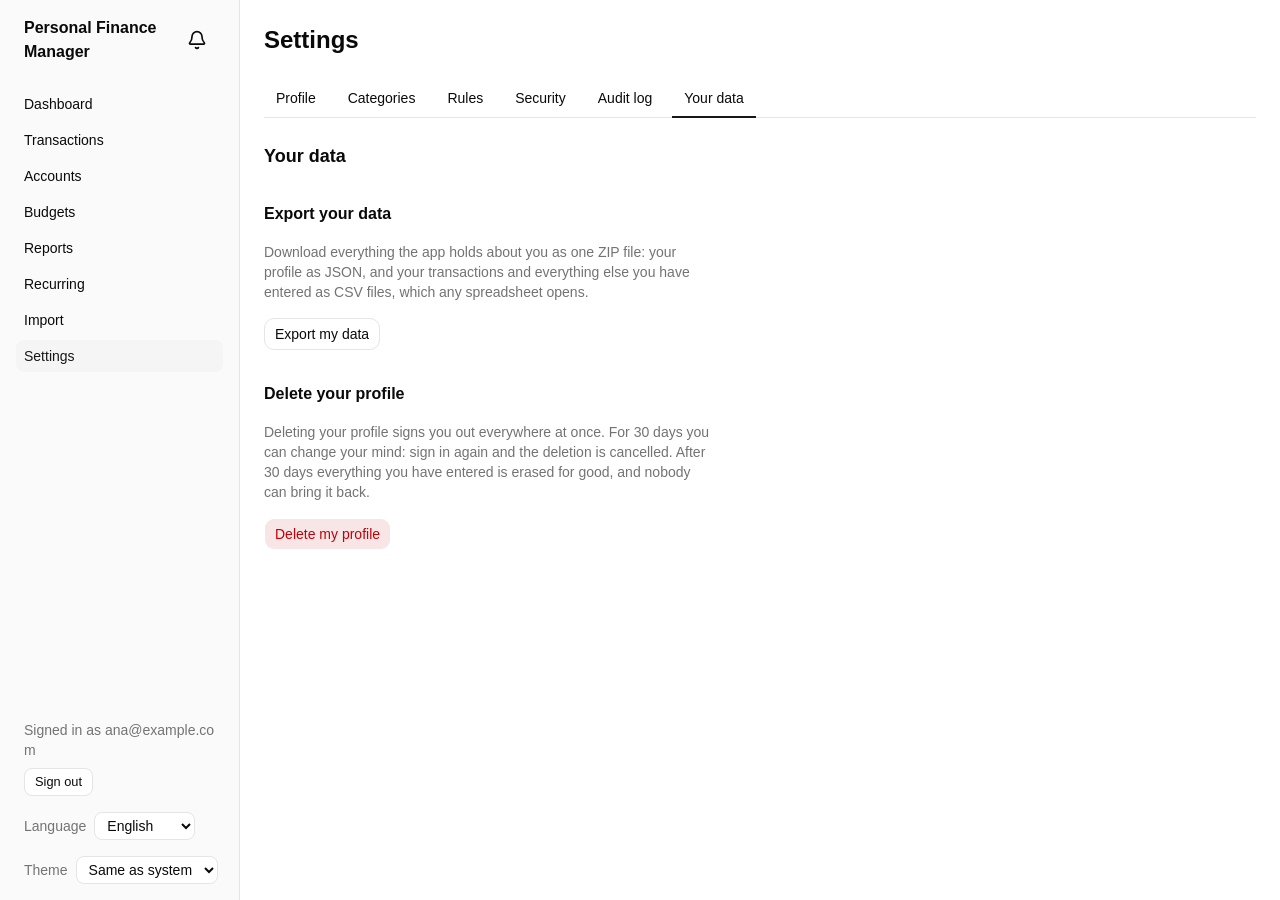
Test: deleting your profile › says when the password is wrong, and deletes nothing
Click the button "Delete my profile": click(328, 534) top-left (264, 518), bottom-right (391, 550)
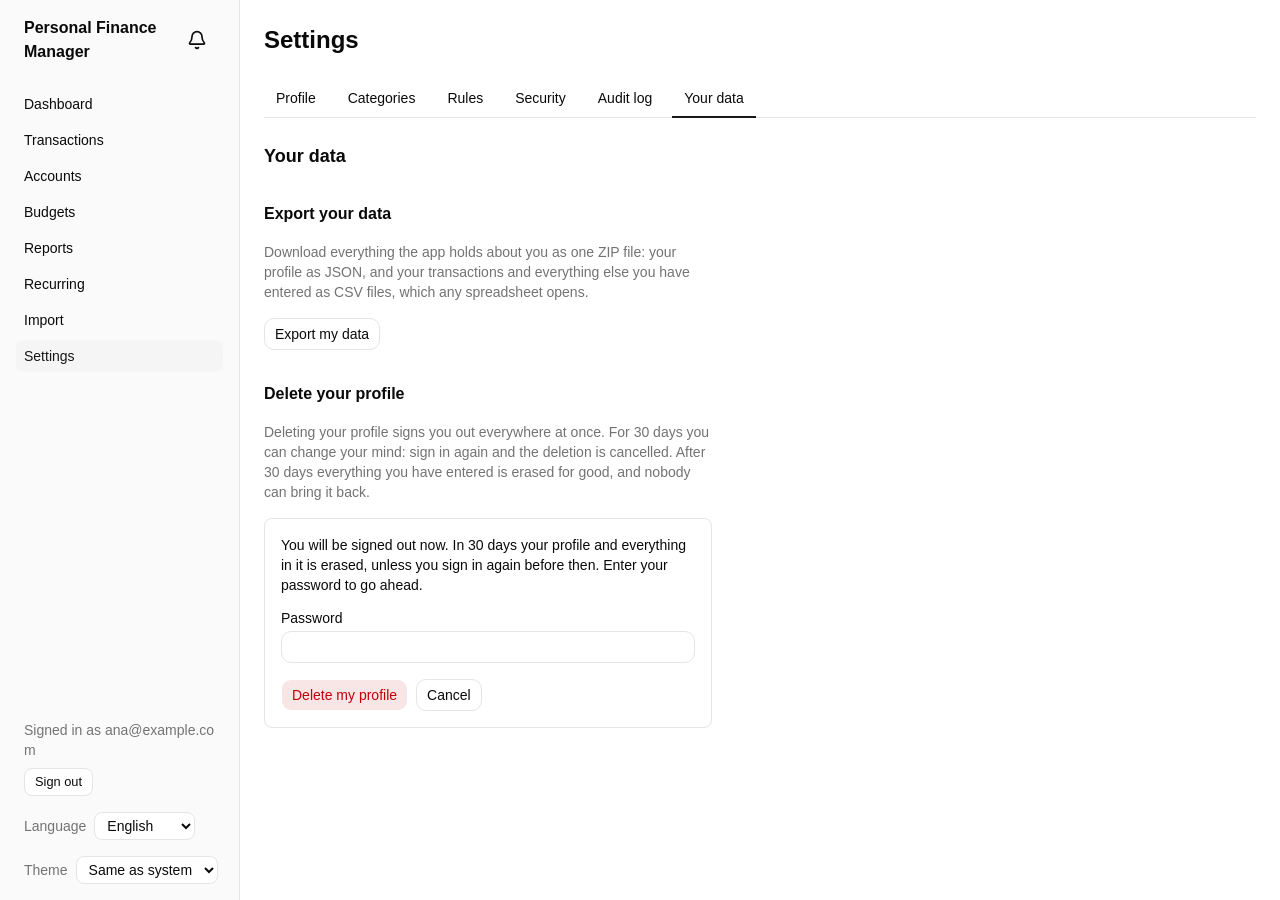
In the password field labelled "Password": (488, 647) top-left (281, 631), bottom-right (695, 663), type "not my password at all"
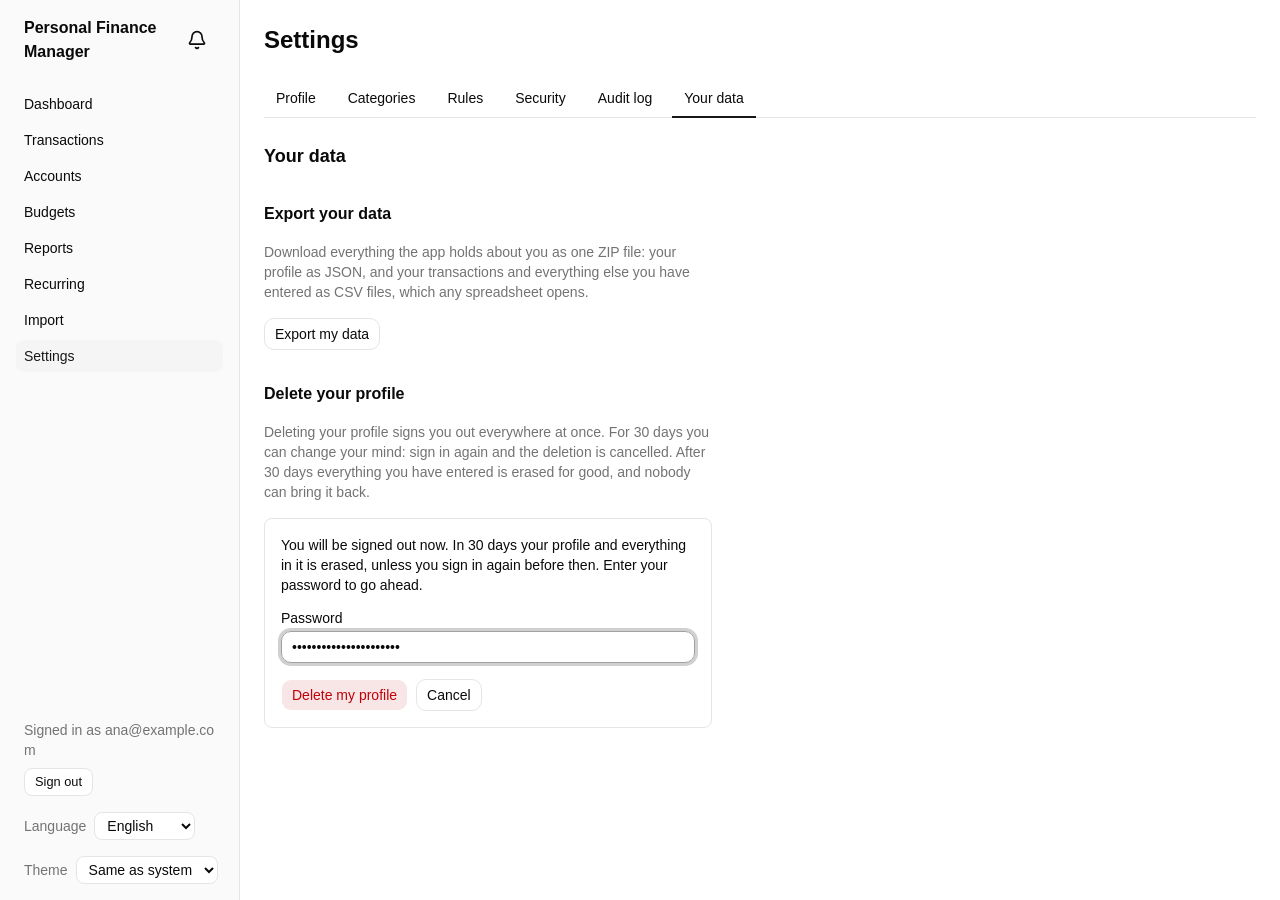
Click the button "Delete my profile": click(344, 695) top-left (281, 679), bottom-right (408, 711)
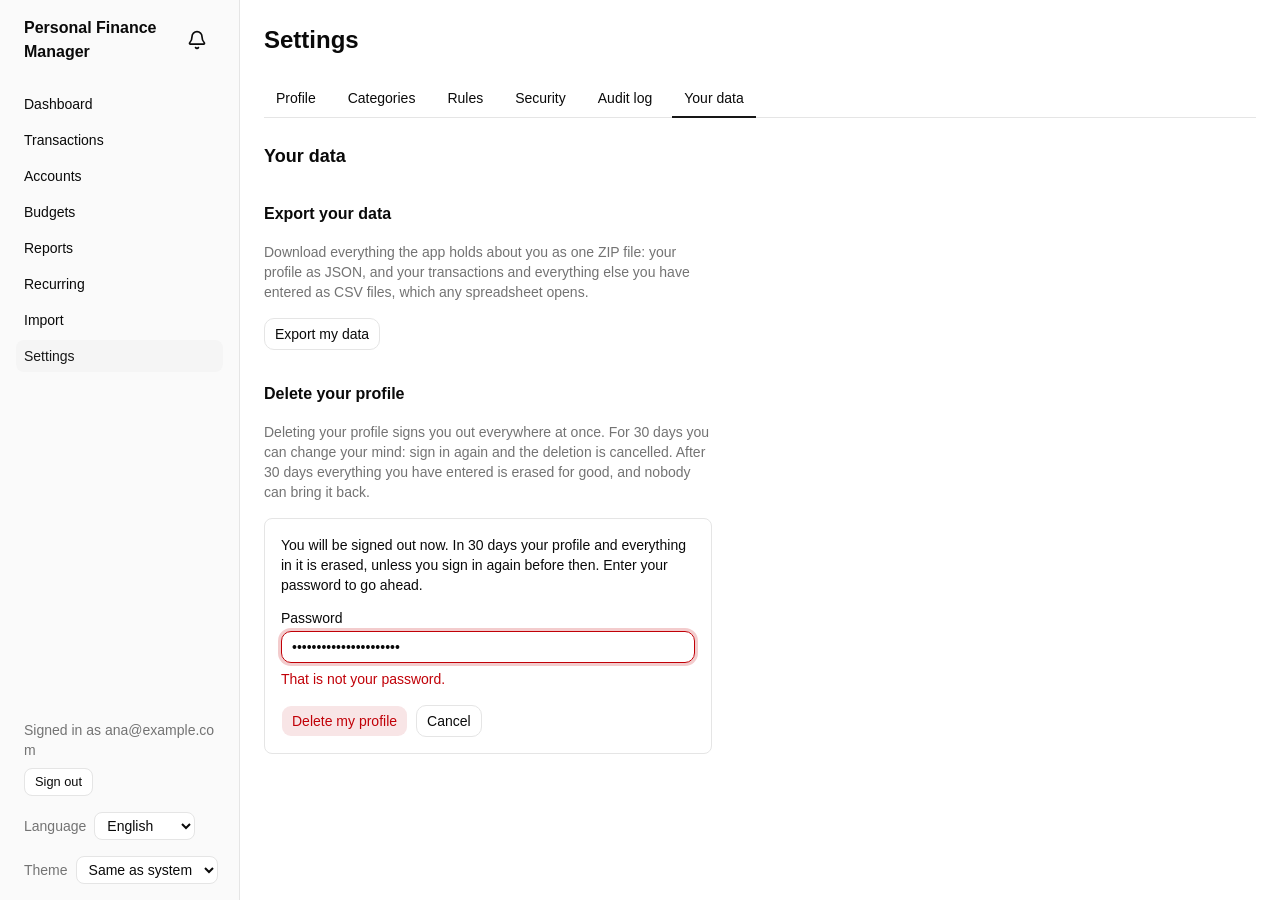
Expected: the heading "Your data" is shown, top-left (264, 146), bottom-right (346, 166)
Result: the text "That is not your password." is shown at top-left (281, 671), bottom-right (445, 687)
